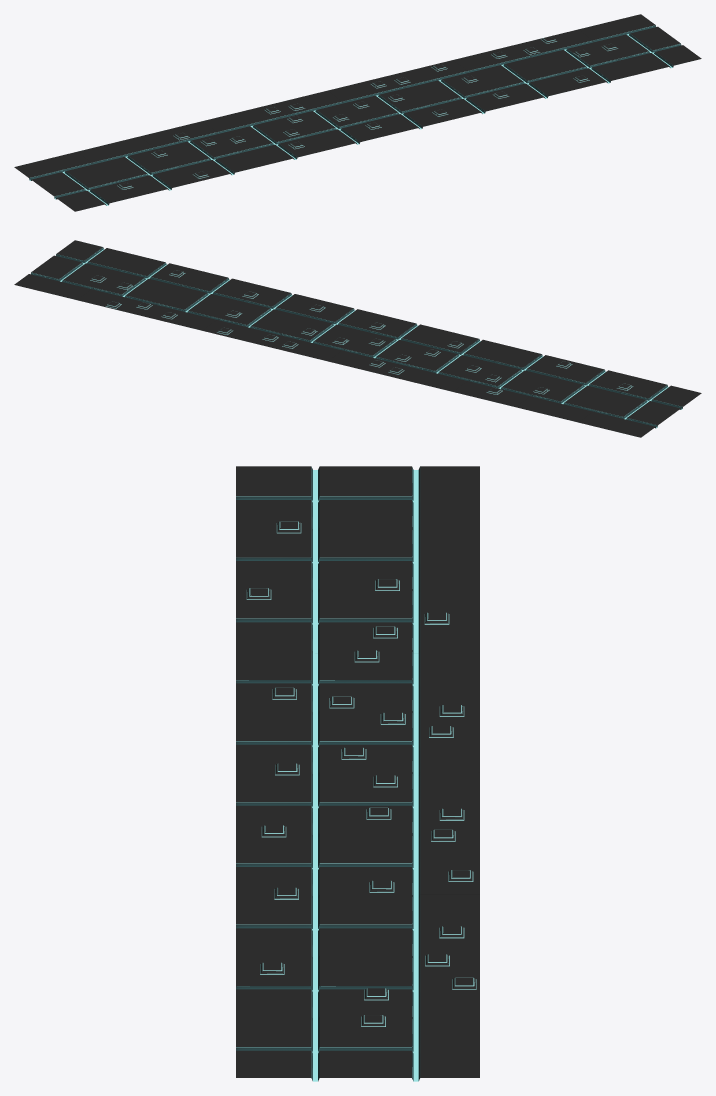
Rendered from ground.obj.
3 views of the same model, one above another, from view 1: azimuth 30°, elevation 25°; view 2: azimuth 150°, elevation 25°; view 3: azimuth 270°, elevation 25° (orthographic). The views are drawn at different scales.
Visible parts, largest first — view 1: Plane.001; view 2: Plane.001; view 3: Plane.001.
Part boxes in pixels (bbox=[...]): Plane.001: bbox=[14, 14, 701, 211]; Plane.001: bbox=[14, 240, 701, 437]; Plane.001: bbox=[236, 466, 479, 1081].
Size of the model in its own units: 274 by 1.4 by 46.27.
Materials: 1 (1 with a texture image).
